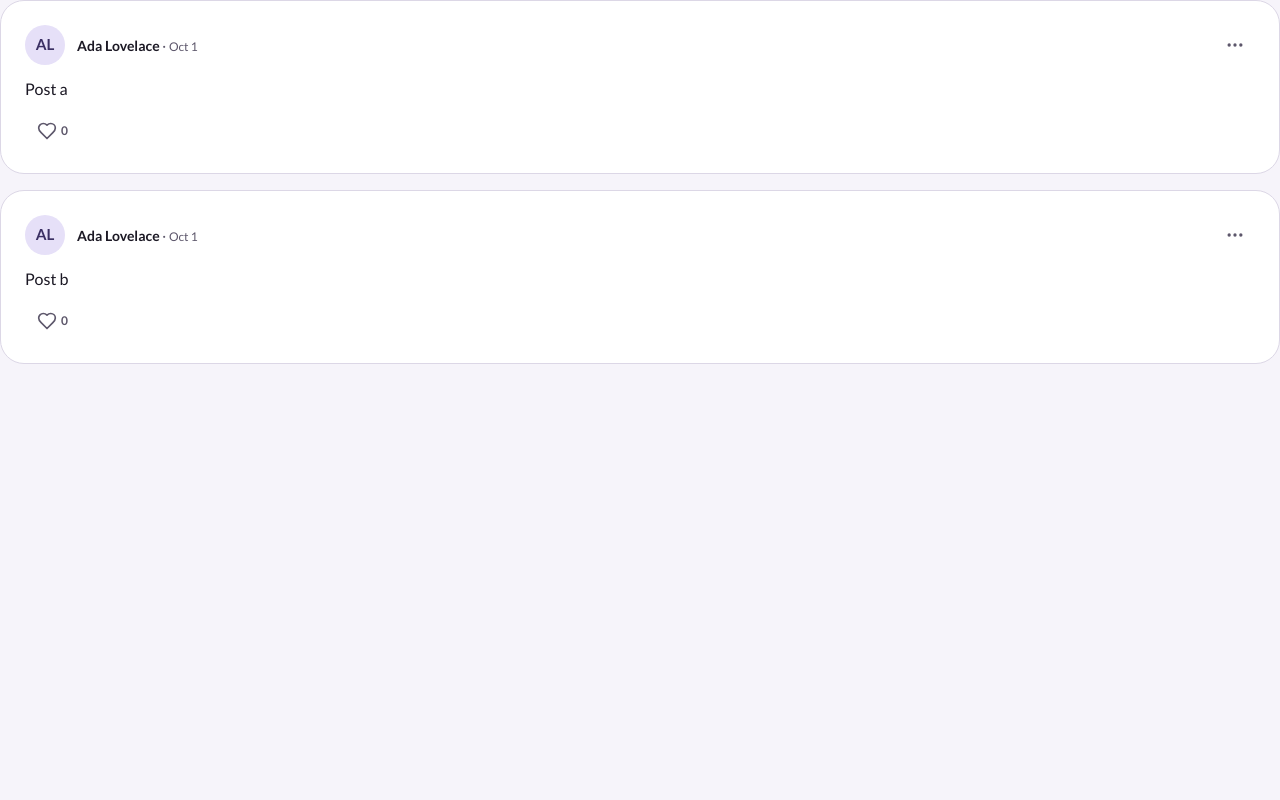
Test case: Posts › removes a deleted post from the list
Click the 1st button named "Post options" at (1235, 45), box [1215,25,1255,65]
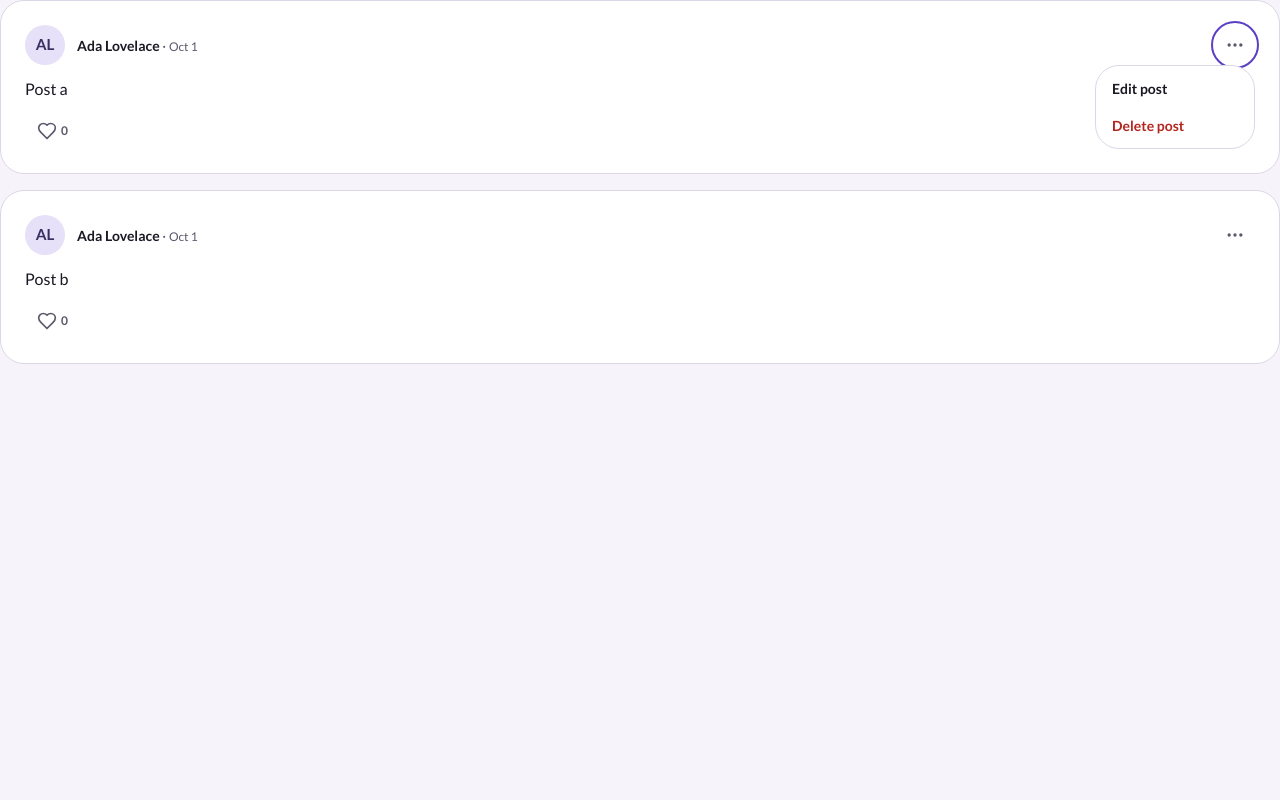
Click the button "Delete post" at (1175, 126), box [1100,107,1250,144]
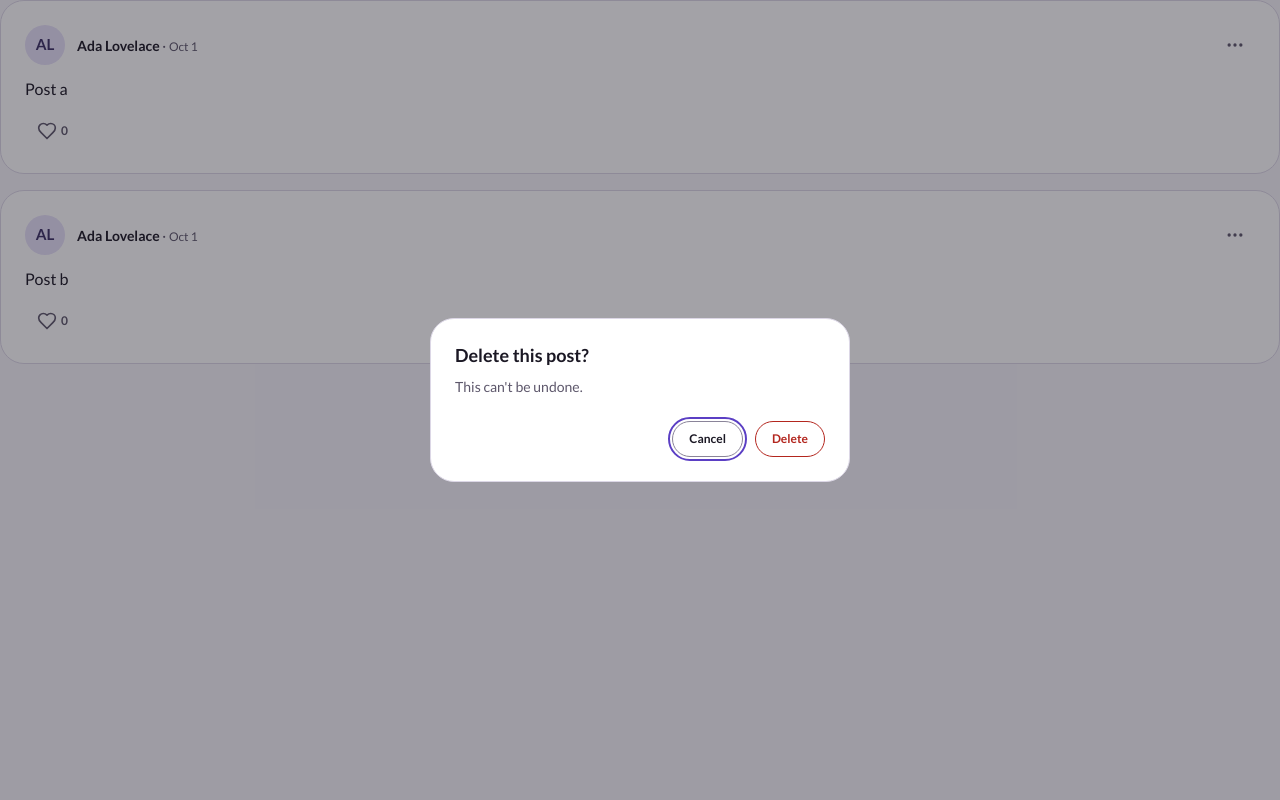
Click the button "Delete" at (790, 439), box [755,421,825,457]
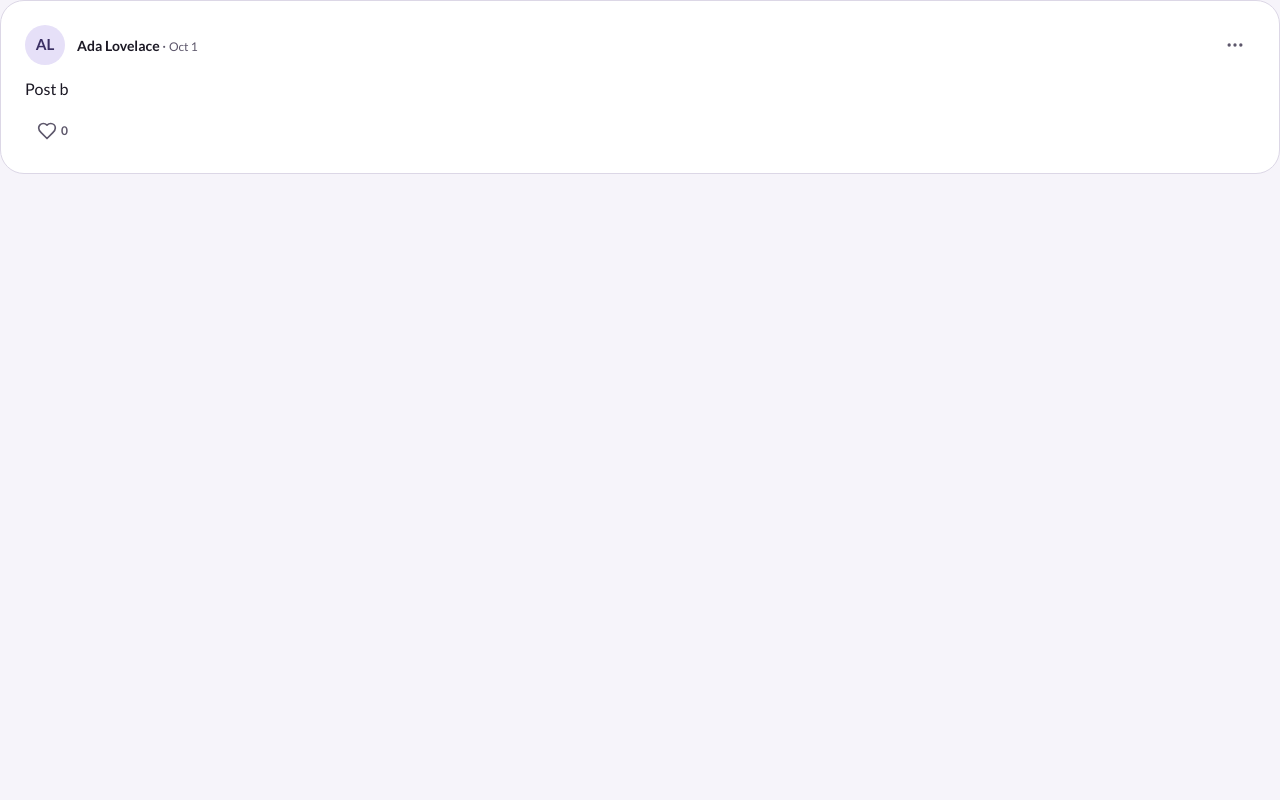
expect the text "Post b" is shown: met, box [25,79,68,98]
expect the text "Post a" is gone: met
